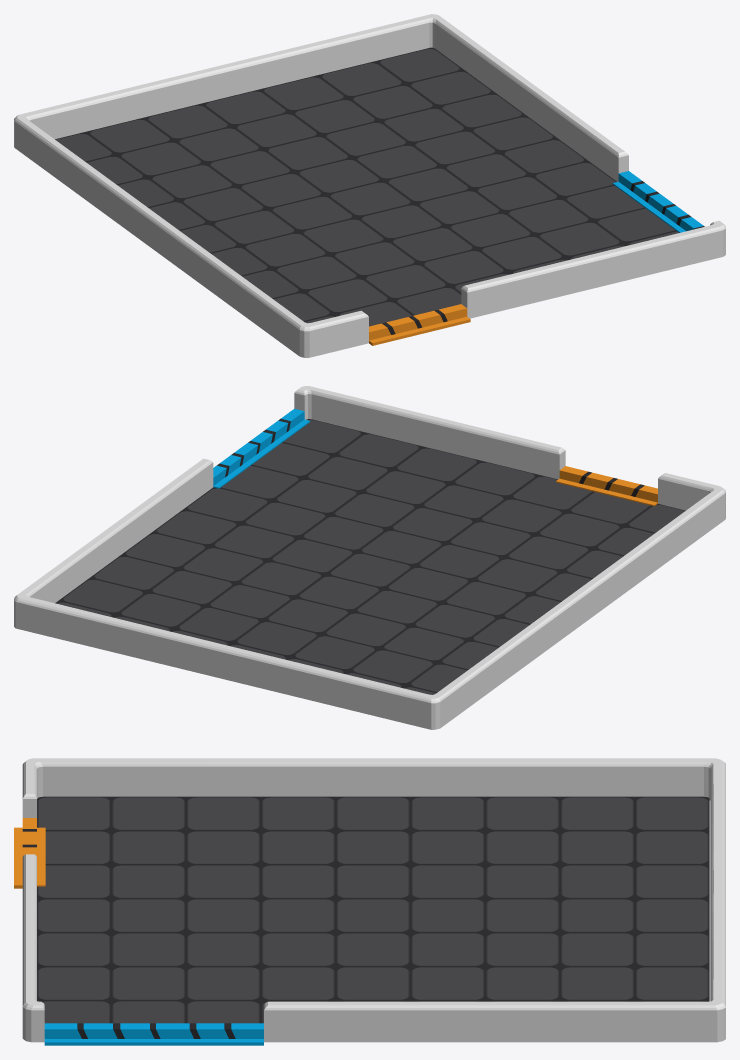
File: Wall.fbx
3 renders of one model, top to bottom at view 1: azimuth 30°, elevation 25°; view 2: azimuth 150°, elevation 25°; view 3: azimuth 270°, elevation 25°, orthographic. The views are drawn at different scales.
Parts seen in each view (by area): view 1: Wall; view 2: Wall; view 3: Wall.
Part boxes in pixels (bbox=[...]): Wall: bbox=[14, 14, 725, 357]; Wall: bbox=[14, 386, 725, 729]; Wall: bbox=[14, 758, 725, 1045].
Bounding box in the file's own units: 781 × 51.32 × 928.
